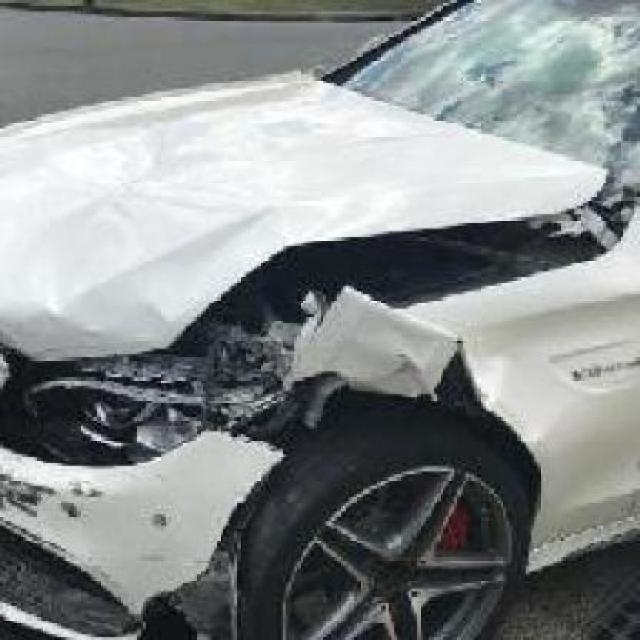damaged-front-bumper: (0, 432, 249, 638)
damaged-head-light: (23, 373, 268, 452)
damaged-hood: (0, 71, 637, 360)
